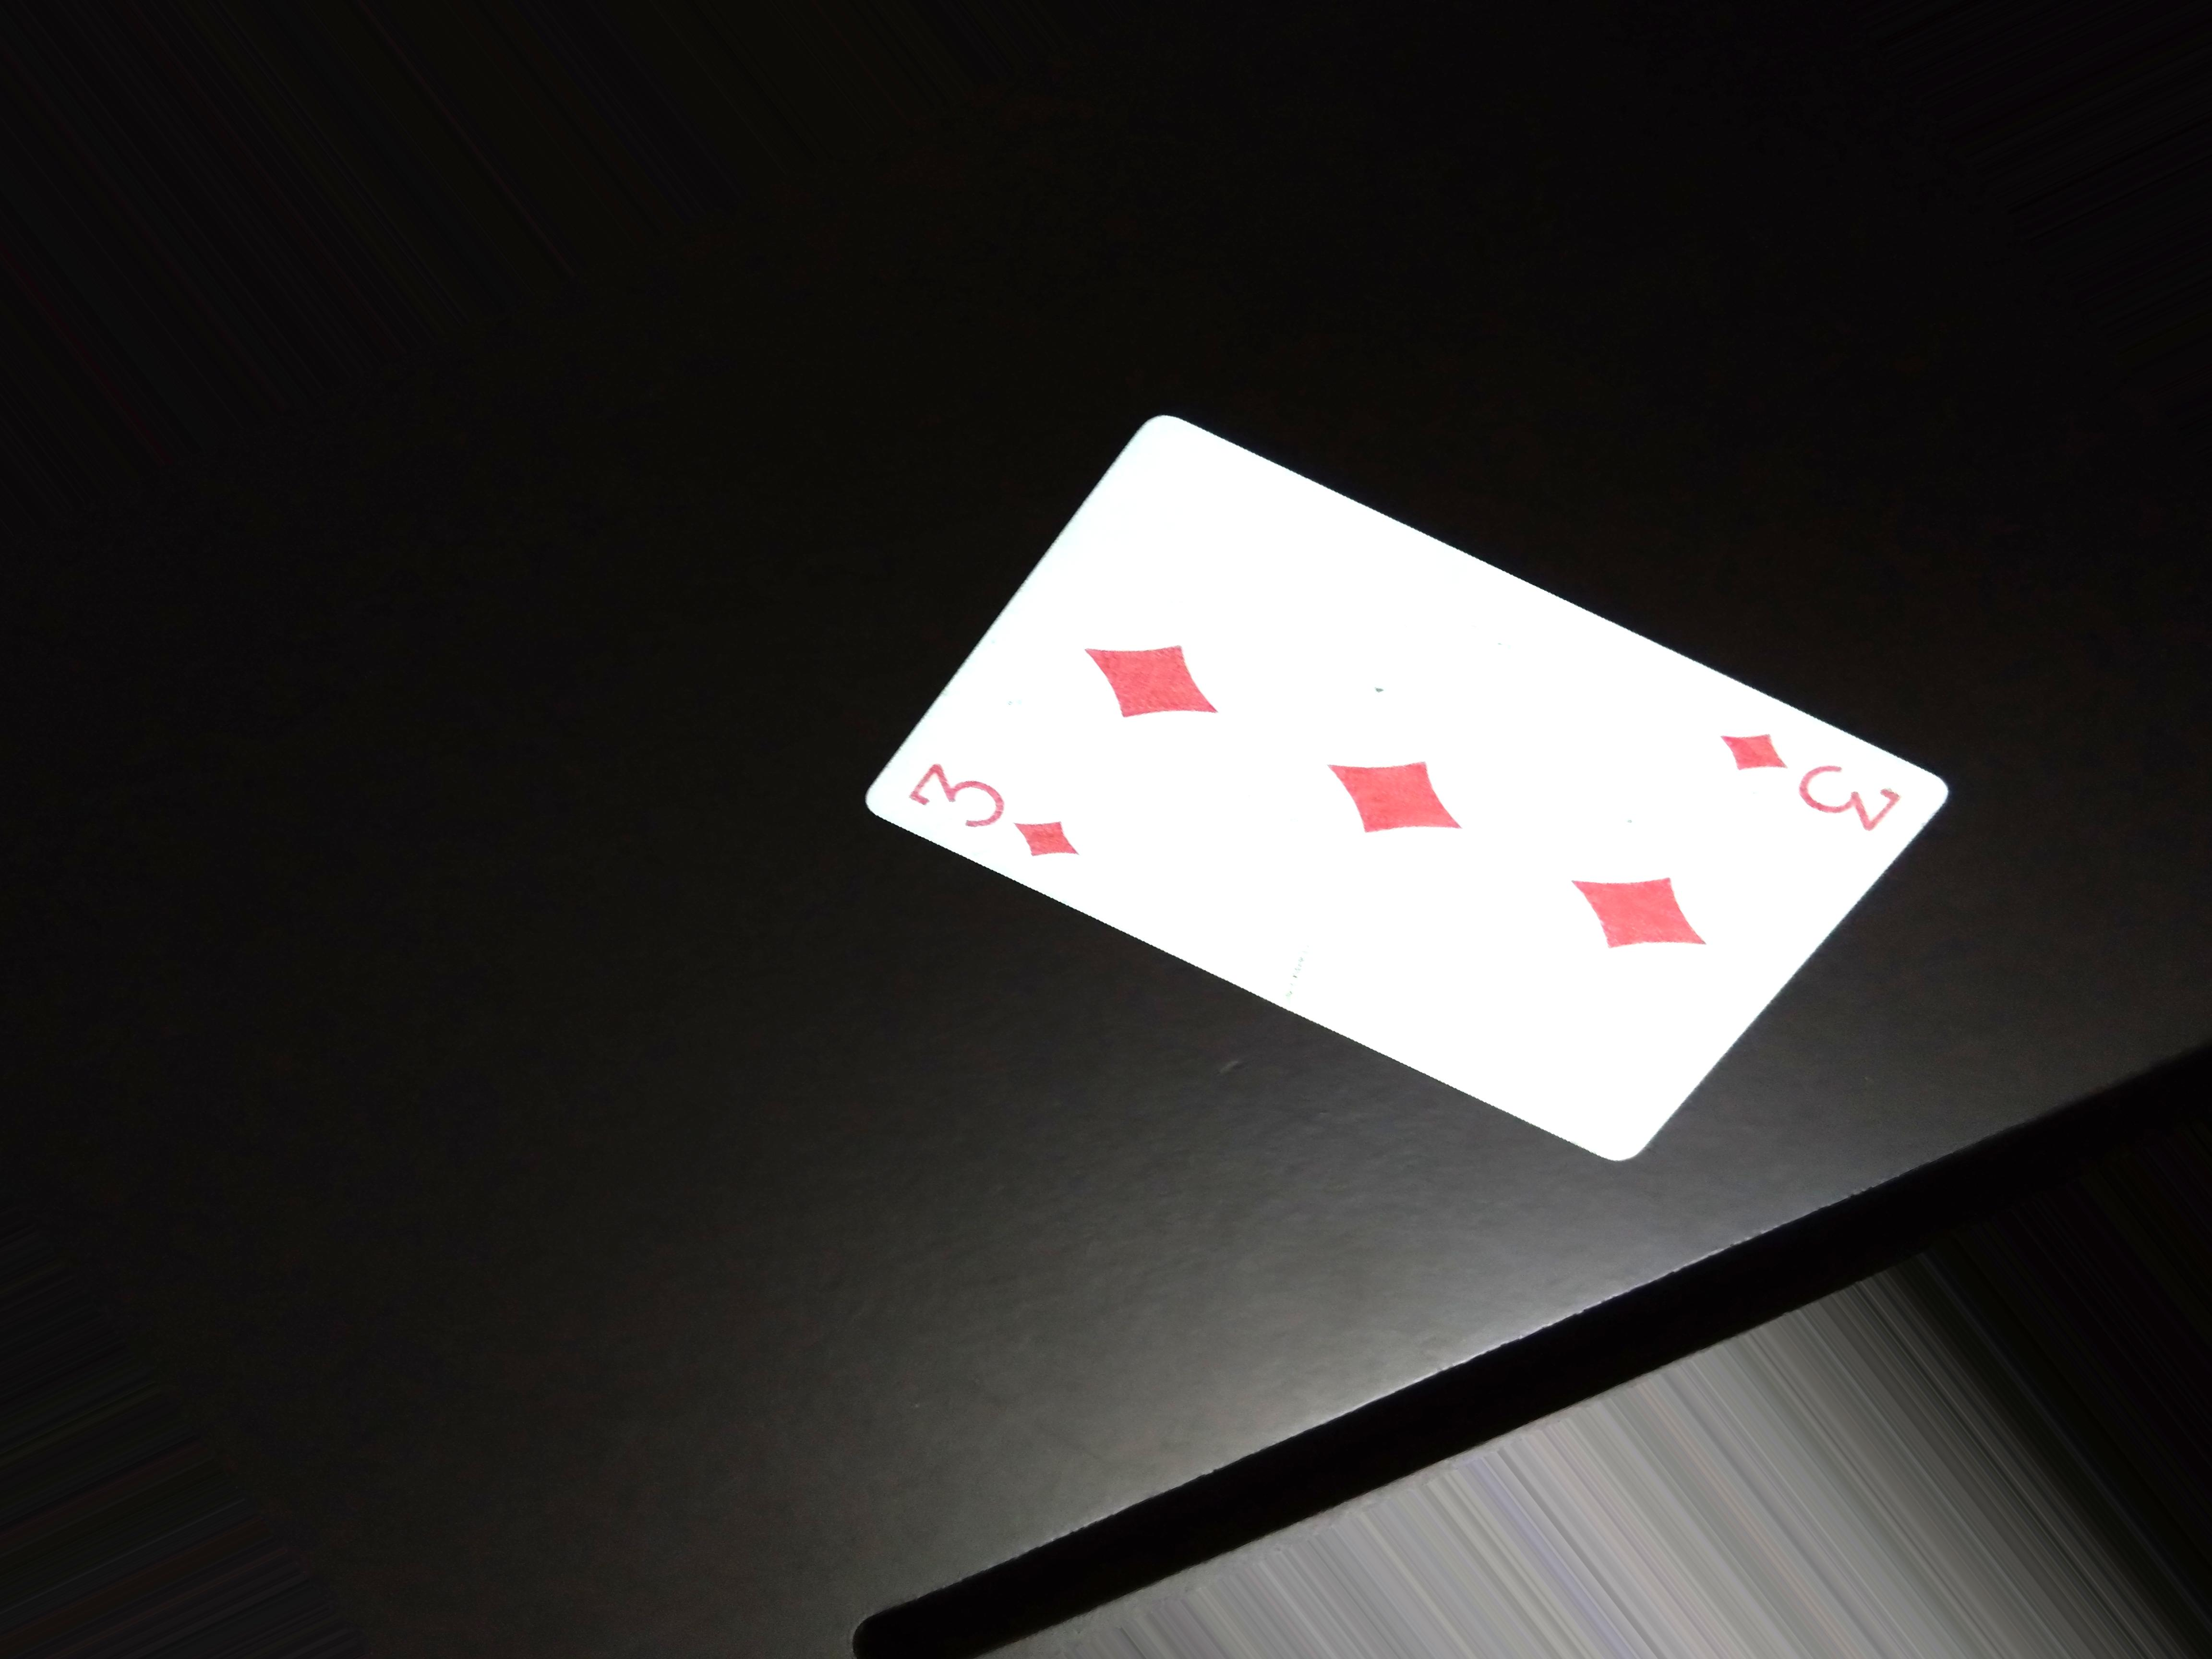3D: (1707, 709, 1932, 847)
